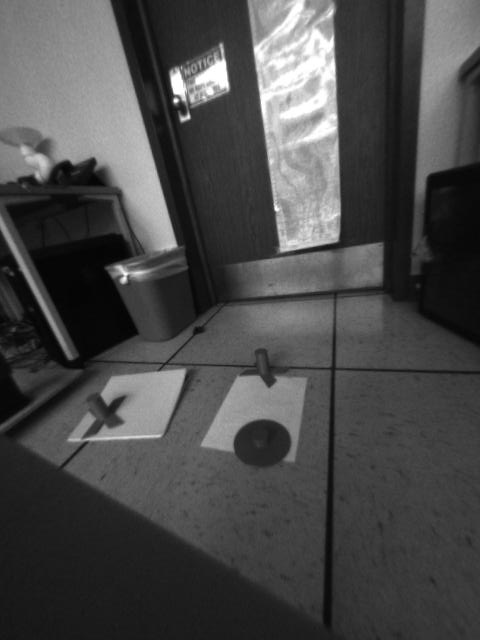X: (238, 347, 291, 390), (81, 393, 129, 436)
